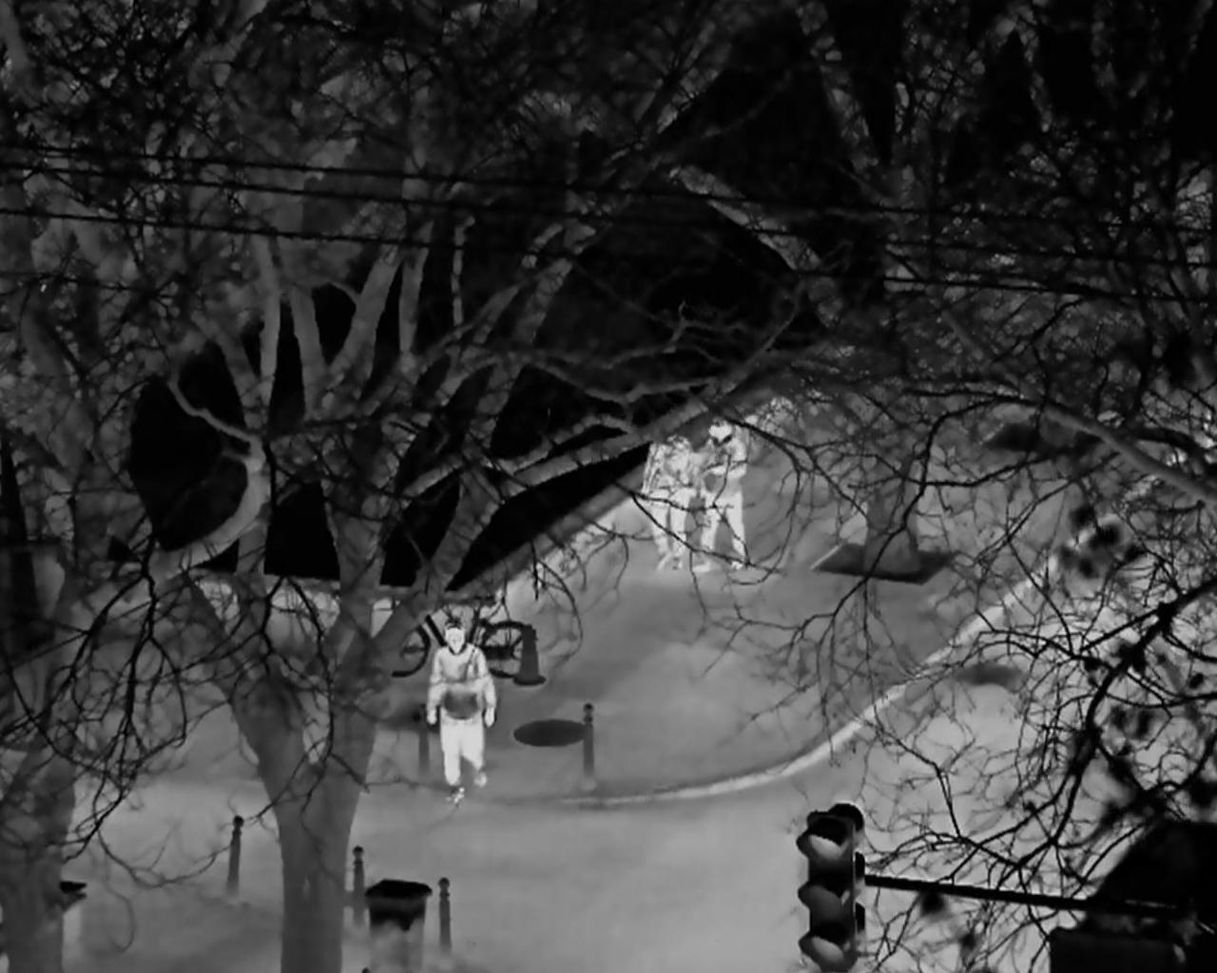person: (425, 617, 497, 804), (697, 413, 750, 571), (639, 433, 692, 572)
